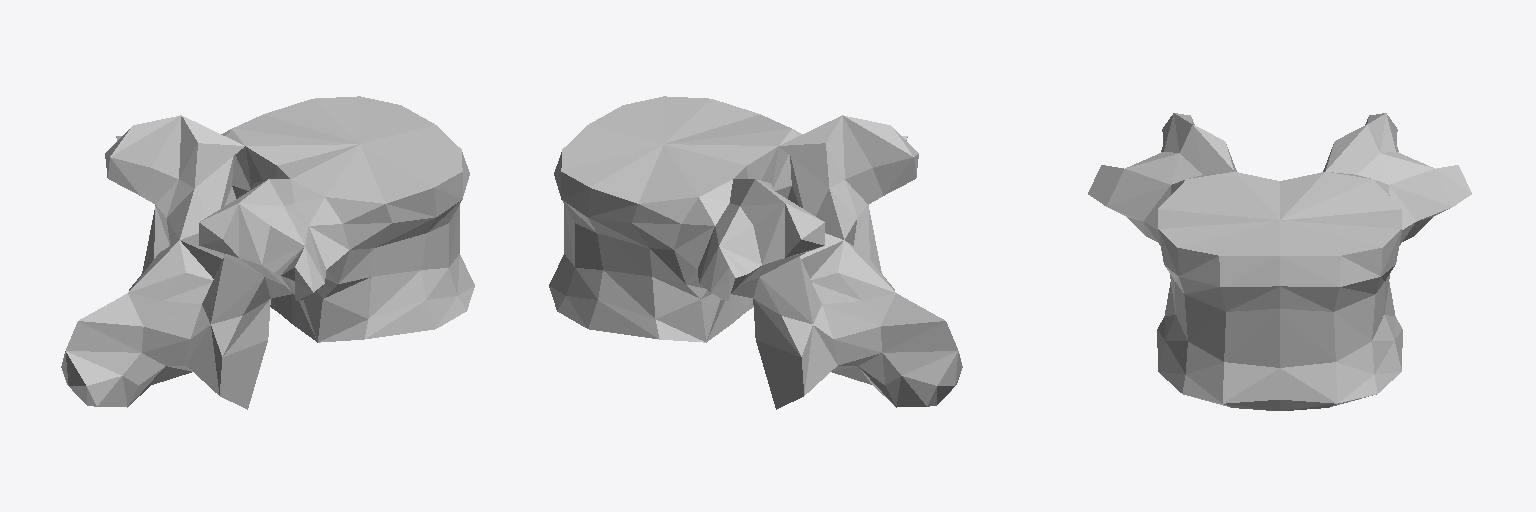
The model's file is vertebrae_lorez.obj.
The picture shows the model from 3 angles: view 1: azimuth 30°, elevation 25°; view 2: azimuth 150°, elevation 25°; view 3: azimuth 270°, elevation 25°; orthographic projection.
Size of the model in its own units: 2.53 by 1.47 by 2.21.